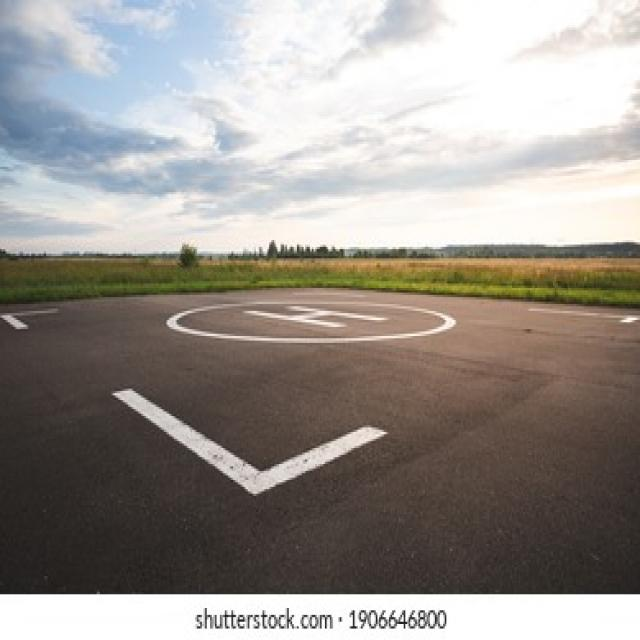helipad: (162, 290, 458, 348)
